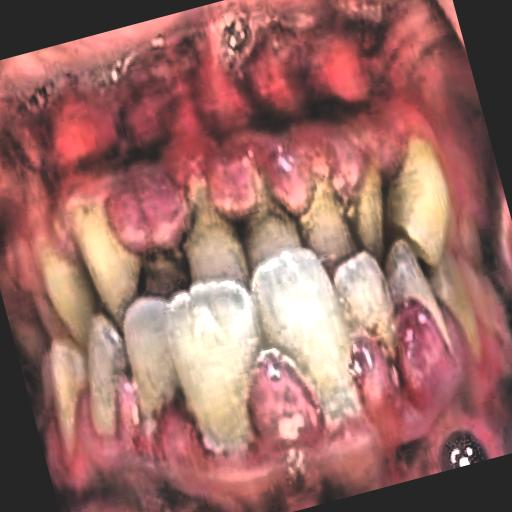Gingivitis: (50, 287, 492, 512), (45, 62, 455, 269)
